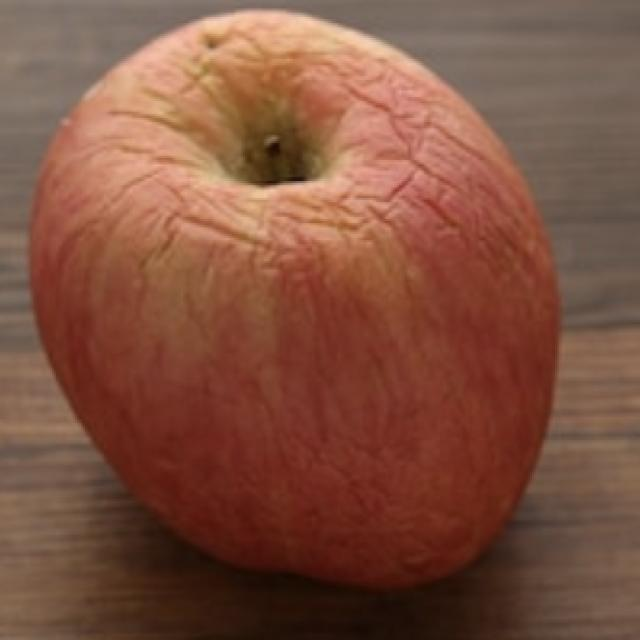apple: (31, 11, 559, 587)
